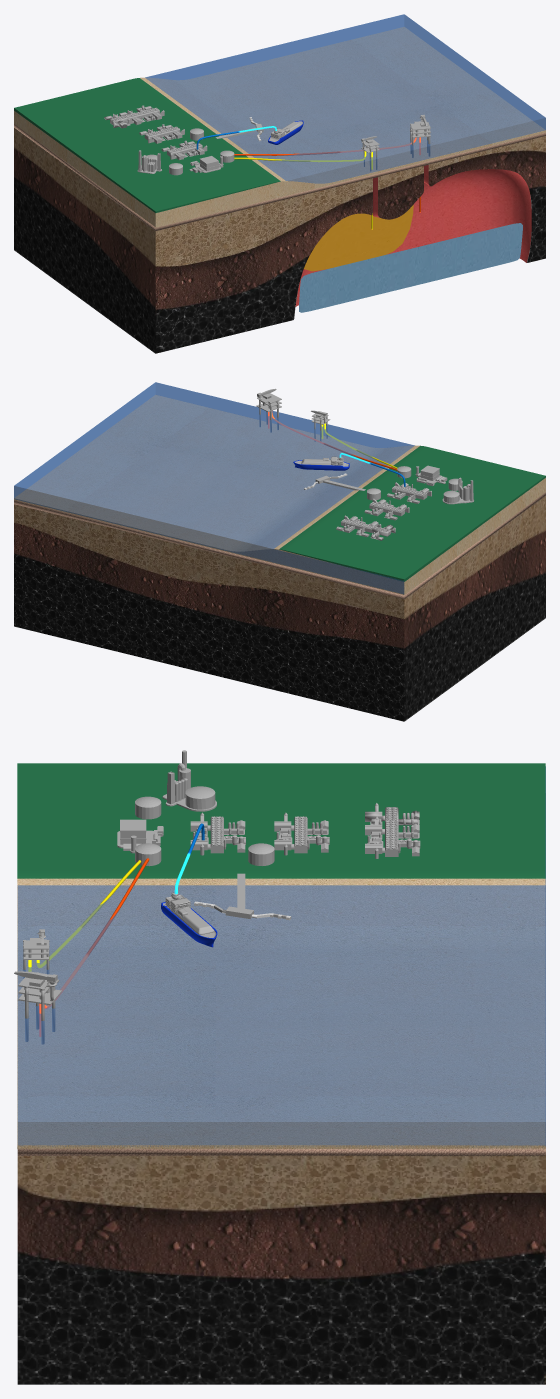
File: ccus.glb
The picture shows the model from 3 angles, top to bottom: view 1: azimuth 30°, elevation 25°; view 2: azimuth 150°, elevation 25°; view 3: azimuth 270°, elevation 25°; orthographic projection. The views are drawn at different scales.
Parts seen in each view (by area): view 1: Extrude_2_3, Extrude_3_2, Extrude_1_2, Plane.003, Volume_Mesher, Plane.004, Extrude_2_2, LNG_Train_01.001, LNG_Train_01.002, LNG_Train_01.003, Vessel_20cm_remesh, AGRU_remesh (+1 smaller); view 2: Extrude_3_2, Extrude_2_3, Extrude_1_2, Extrude_2_2, Vessel_20cm_remesh, LNG_Train_01.001, AGRU_remesh, LNG_Train_01.002, LNG_Train_01.003, ORF; view 3: Extrude_2_3, Extrude_1_2, Extrude_3_2, Extrude_2_2, LNG_Train_01.001, LNG_Train_01.003, AGRU_remesh, LNG_Train_01.002, Vessel_20cm_remesh, ORF.
Part boxes in pixels (bbox=[...]): Extrude_2_3: bbox=[14, 27, 545, 227]; Extrude_3_2: bbox=[14, 128, 545, 353]; Extrude_1_2: bbox=[145, 14, 545, 183]; Plane.003: bbox=[299, 223, 522, 312]; Volume_Mesher: bbox=[295, 165, 531, 306]; Plane.004: bbox=[304, 205, 413, 271]; Extrude_2_2: bbox=[14, 124, 545, 230]; LNG_Train_01.001: bbox=[139, 124, 184, 143]; LNG_Train_01.002: bbox=[161, 140, 207, 160]; LNG_Train_01.003: bbox=[119, 105, 164, 124]; Vessel_20cm_remesh: bbox=[268, 120, 303, 144]; AGRU_remesh: bbox=[137, 150, 161, 173]; Extrude_3_2: bbox=[14, 496, 545, 721]; Extrude_2_3: bbox=[14, 395, 545, 594]; Extrude_1_2: bbox=[14, 382, 414, 594]; Extrude_2_2: bbox=[14, 492, 545, 598]; Vessel_20cm_remesh: bbox=[293, 456, 349, 470]; LNG_Train_01.001: bbox=[364, 498, 409, 520]; AGRU_remesh: bbox=[442, 477, 474, 504]; LNG_Train_01.002: bbox=[387, 482, 431, 503]; LNG_Train_01.003: bbox=[336, 515, 381, 537]; ORF: bbox=[415, 465, 447, 486]; Extrude_2_3: bbox=[17, 763, 545, 1149]; Extrude_1_2: bbox=[17, 766, 545, 1146]; Extrude_3_2: bbox=[17, 1155, 545, 1384]; Extrude_2_2: bbox=[17, 1147, 545, 1156]; LNG_Train_01.001: bbox=[274, 812, 329, 855]; LNG_Train_01.003: bbox=[365, 816, 420, 858]; AGRU_remesh: bbox=[162, 750, 216, 811]; LNG_Train_01.002: bbox=[190, 812, 245, 855]; Vessel_20cm_remesh: bbox=[161, 892, 217, 947]; ORF: bbox=[117, 819, 163, 853].
Bounding box in the file's own units: 18.8 × 7.55 × 11.88.
15 materials, 6 textured.
